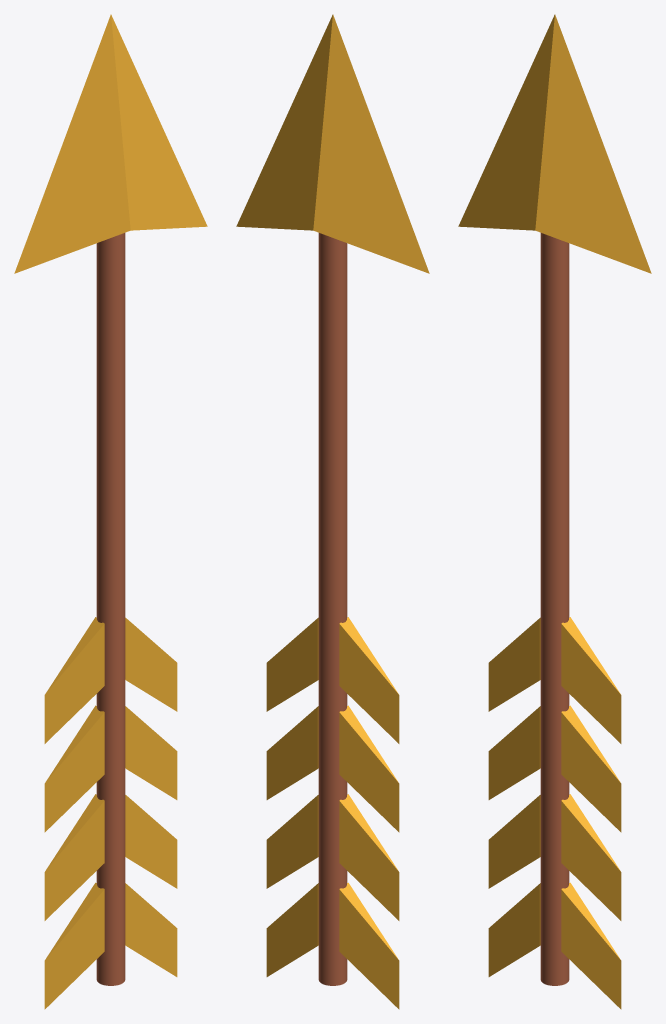
Rendered from Arrow Gold Multi.fbx.
3 renders of one model, left to right at view 1: azimuth 30°, elevation 25°; view 2: azimuth 150°, elevation 25°; view 3: azimuth 330°, elevation 25°, orthographic.
Visible parts, largest first — view 1: Arrow Gold; view 2: Arrow Gold; view 3: Arrow Gold.
Part boxes in pixels (bbox=[...]): Arrow Gold: bbox=[14, 14, 207, 1009]; Arrow Gold: bbox=[236, 14, 429, 1009]; Arrow Gold: bbox=[458, 14, 651, 1009].
Bounding box in the file's own units: 0.2236 × 1.08 × 0.0788.
